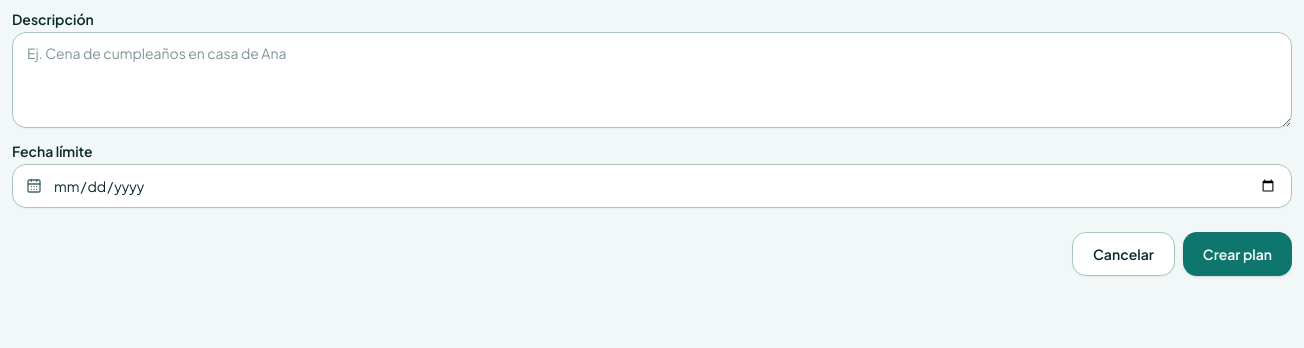
PlanForm › shows a Spanish error next to each empty field and does not submit
Step 1. Click the button "Crear plan" → (1237, 254), box [1183,232,1292,276]
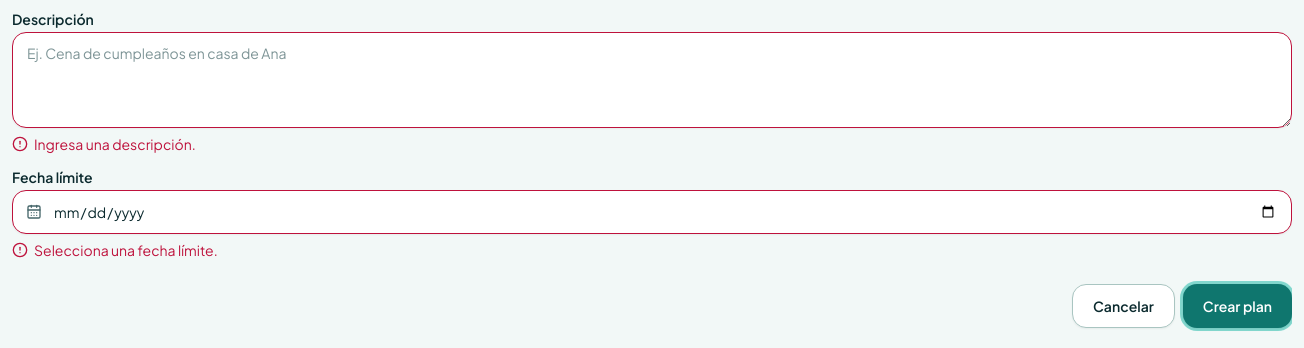
Expected: the text "Ingresa una descripción." is shown, [12,135,196,153]
Expected: the text "Selecciona una fecha límite." is shown, [12,241,218,259]
